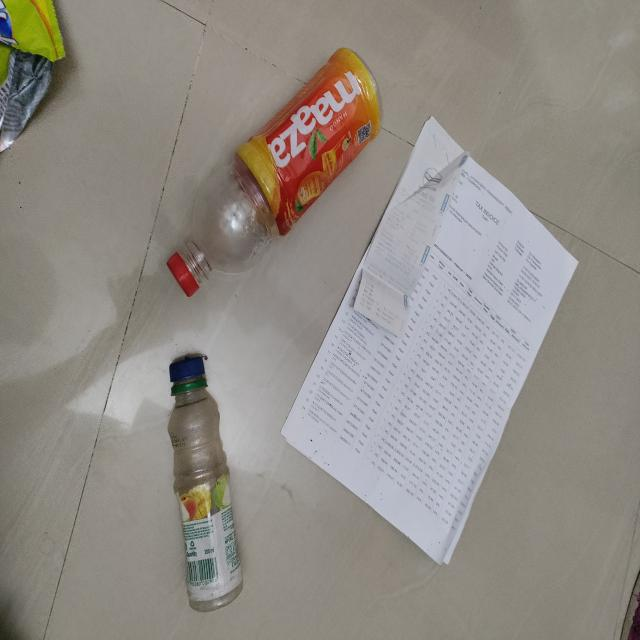dry: (108, 27, 378, 321), (340, 179, 541, 553), (145, 337, 276, 640)
